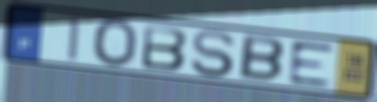B: (236, 33, 286, 84), (140, 22, 190, 72)
E: (288, 39, 336, 88)
I: (66, 14, 84, 64)
O: (91, 18, 140, 69)
S: (188, 29, 238, 79)
